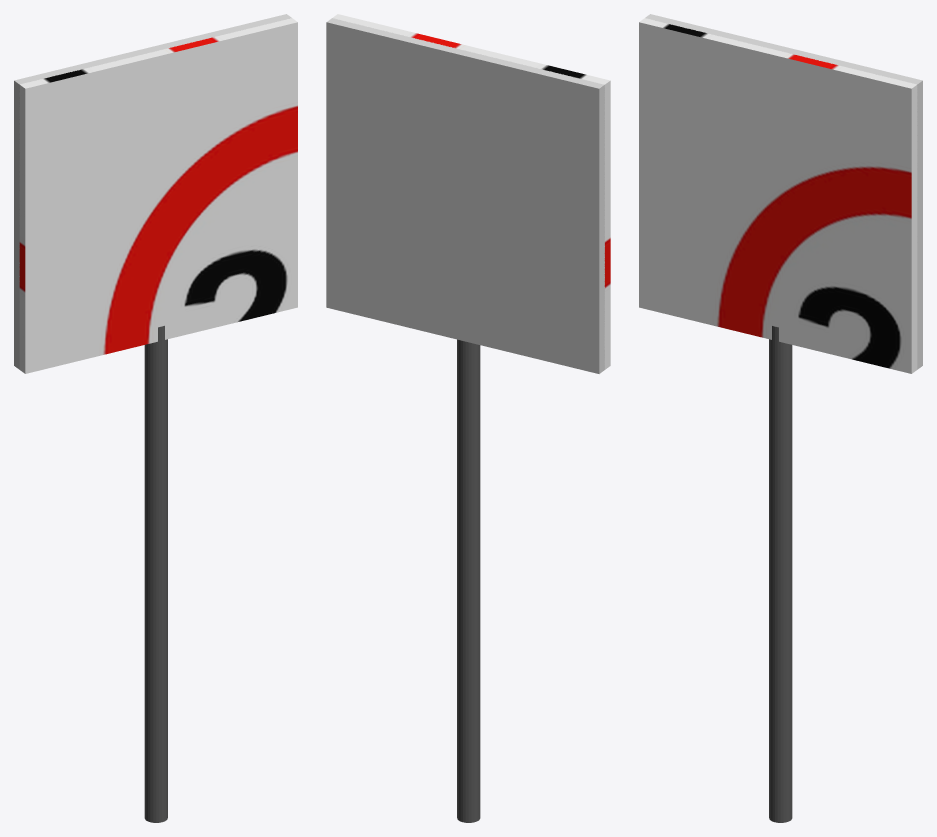
The model's file is teknofest_sign_hiz_siniri_20.fbx.
3 views of the same model, side by side, from view 1: azimuth 30°, elevation 25°; view 2: azimuth 150°, elevation 25°; view 3: azimuth 330°, elevation 25° (orthographic).
Visible parts, largest first — view 1: teknofest_sign_hiz_siniri_20_board, teknofest_sign_hiz_siniri_20_pole, teknofest_sign_hiz_siniri_20_back; view 2: teknofest_sign_hiz_siniri_20_back, teknofest_sign_hiz_siniri_20_pole, teknofest_sign_hiz_siniri_20_board; view 3: teknofest_sign_hiz_siniri_20_board, teknofest_sign_hiz_siniri_20_pole, teknofest_sign_hiz_siniri_20_back.
Part boxes in pixels (x1=…): teknofest_sign_hiz_siniri_20_board: x1=19, y1=18, x2=297, y2=373; teknofest_sign_hiz_siniri_20_pole: x1=144, y1=325, x2=167, y2=822; teknofest_sign_hiz_siniri_20_back: x1=14, y1=14, x2=291, y2=369; teknofest_sign_hiz_siniri_20_back: x1=326, y1=18, x2=604, y2=373; teknofest_sign_hiz_siniri_20_pole: x1=457, y1=339, x2=480, y2=822; teknofest_sign_hiz_siniri_20_board: x1=333, y1=14, x2=610, y2=369; teknofest_sign_hiz_siniri_20_board: x1=639, y1=18, x2=917, y2=373; teknofest_sign_hiz_siniri_20_pole: x1=769, y1=325, x2=792, y2=822; teknofest_sign_hiz_siniri_20_back: x1=645, y1=14, x2=922, y2=369.
Size of the model in its own units: 95 by 255 by 7.05.
3 materials, 1 textured.
